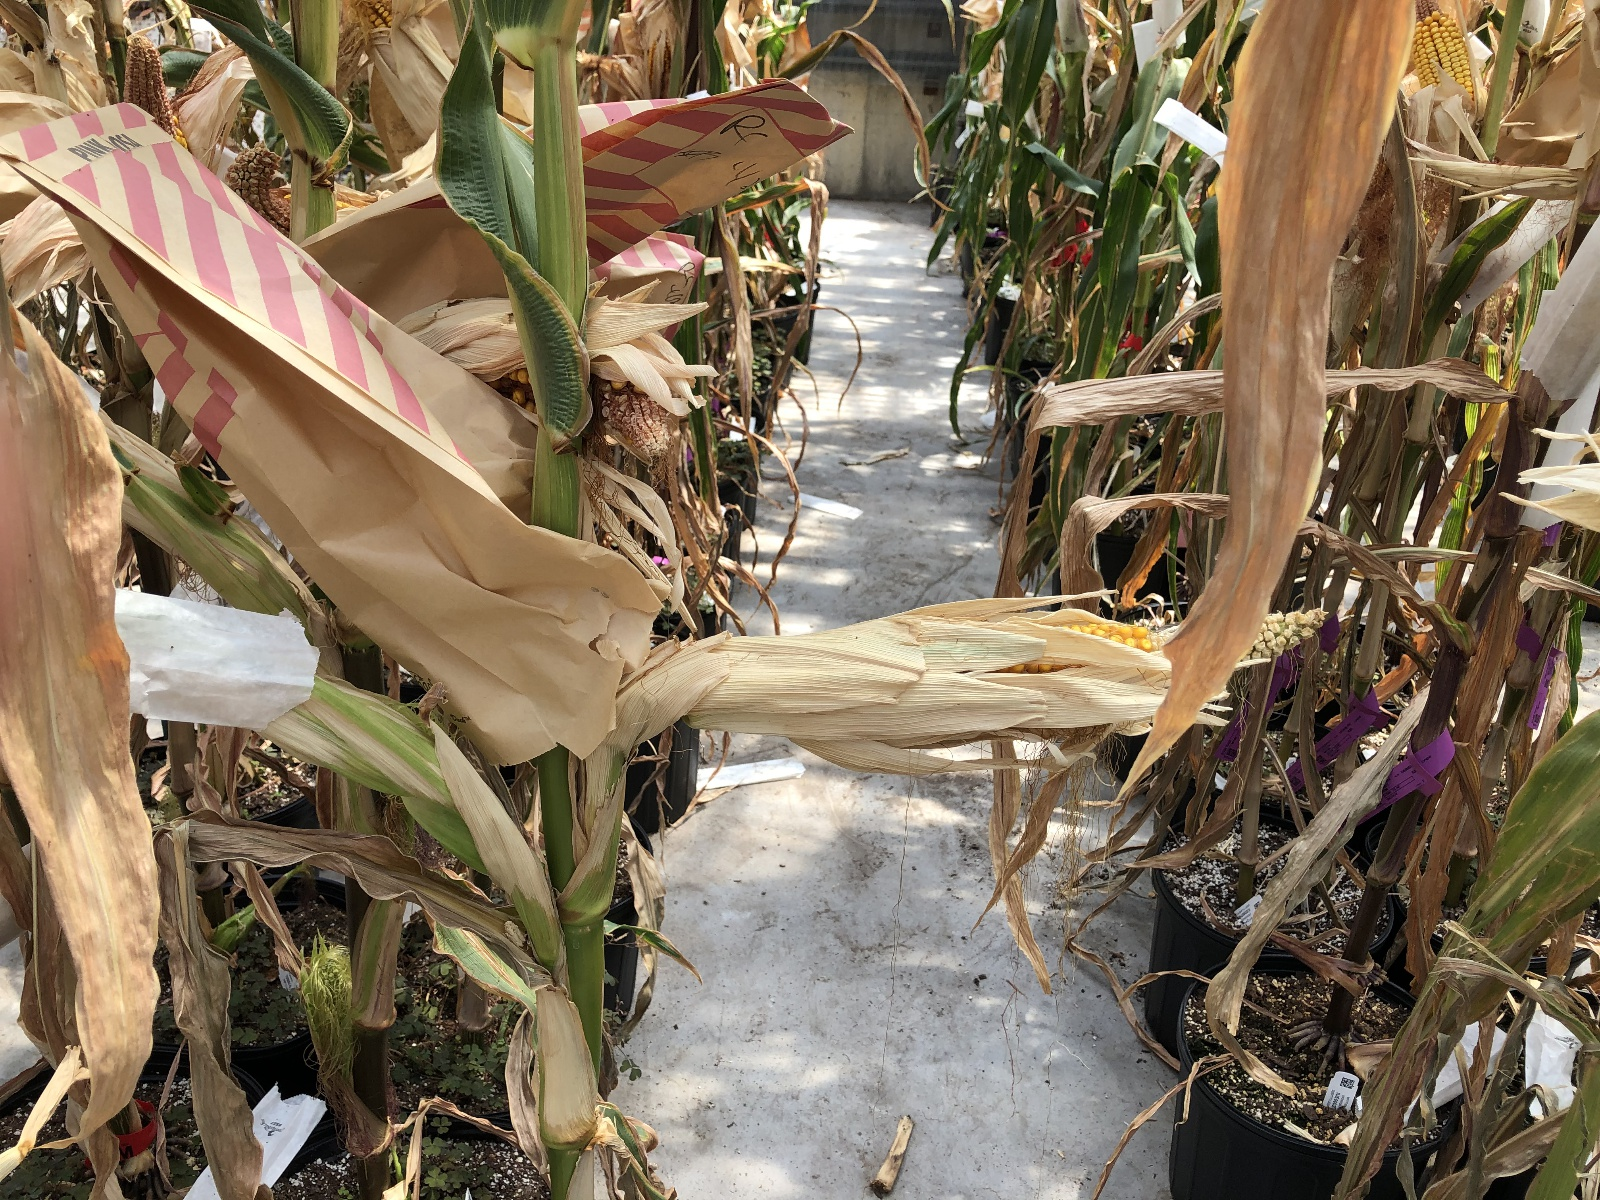ear: (666, 581, 1335, 753), (409, 303, 700, 444), (350, 3, 506, 144), (117, 24, 191, 155), (1414, 3, 1485, 124)
